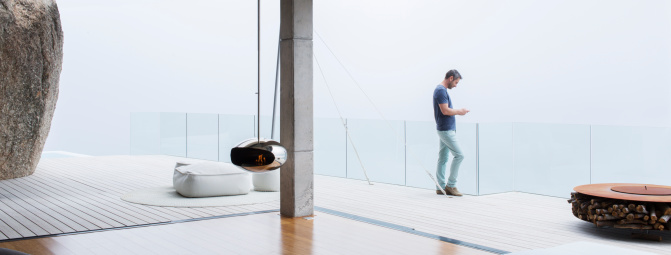em pe: (427, 67, 464, 195)
